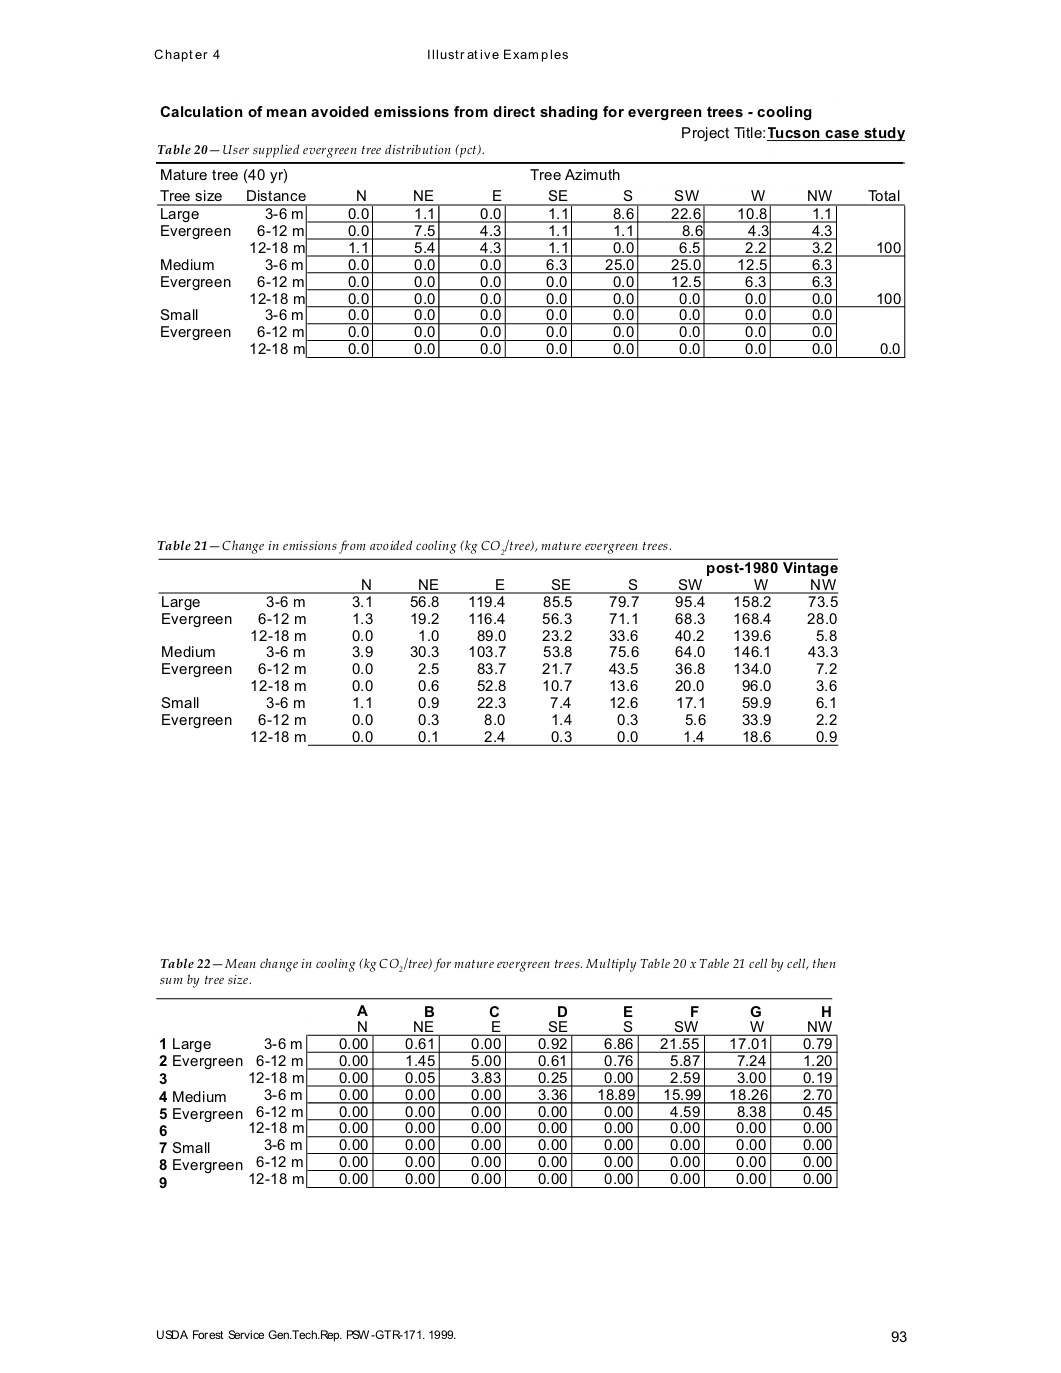Table: (156, 162, 905, 357), (158, 558, 838, 744), (159, 1020, 837, 1189)
